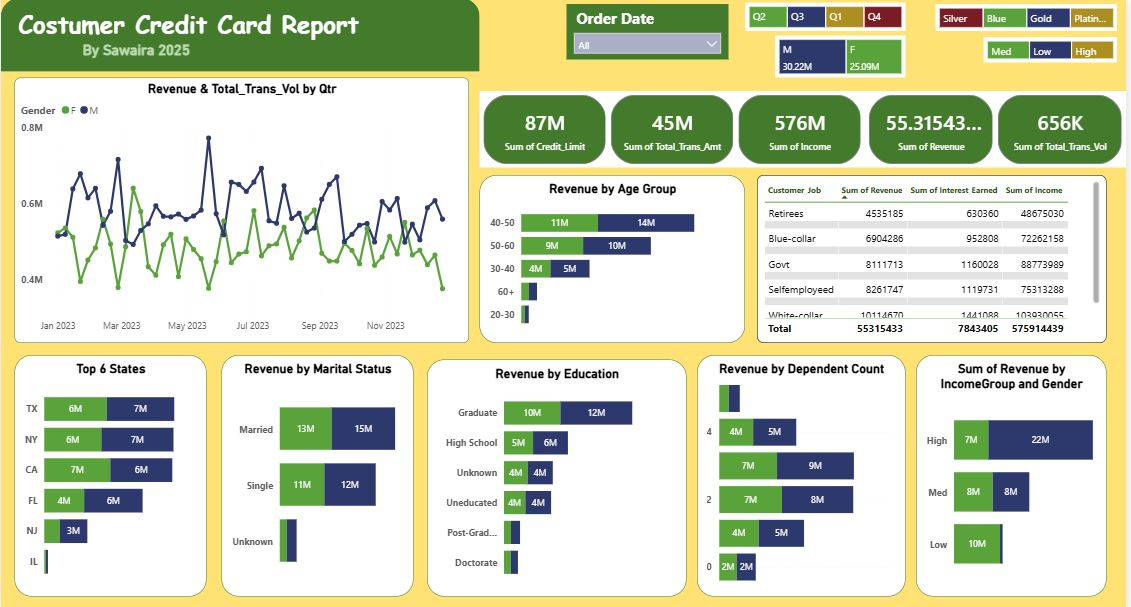

This screenshot's page, from the dashboard's own definition file:
{"tool":"powerbi","page":{"name":"CC Costumer","canvas":[1500,820],"ordinal":1},"visuals":[{"type":"cardVisual","fields":{"Data":["Sum(credit_card.Revenue)","Sum(credit_card.Total_Trans_Vol)"]},"box":[1152,124,348,102],"z":0},{"type":"cardVisual","fields":{"Data":["Sum(credit_card.Credit_Limit)","Sum(credit_card.Total_Trans_Amt)","Sum(customer.Income)"]},"box":[638,124,514,102],"z":1000},{"type":"tableEx","fields":{"Values":["customer.Customer_Job","Sum(credit_card.Revenue)","Sum(credit_card.Interest_Earned)","Sum(customer.Income)"]},"box":[1008,236,466,224],"z":2000},{"type":"barChart","fields":{"Category":["customer.IncomeGroup"],"Y":["Sum(credit_card.Revenue)"],"Series":["customer.Gender"]},"box":[1220,476,254,322],"z":3000},{"type":"lineChart","title":"Revenue & Total_Trans_Vol by Qtr","fields":{"Y":["Sum(credit_card.Revenue)"],"Category":["credit_card.Week_Start_Date.Variation.Date Hierarchy.Year","credit_card.Week_Start_Date.Variation.Date Hierarchy.Month","credit_card.Week_Start_Date.Variation.Date Hierarchy.Day"],"Series":["customer.Gender"]},"box":[18,106,606,354],"z":4000},{"type":"shape","box":[0,0,638,98],"z":6000},{"type":"slicer","fields":{"Values":["credit_card.Week_Start_Date"]},"box":[754,8,216,74],"z":8000},{"type":"barChart","title":"Revenue by Age Group","fields":{"Y":["Sum(credit_card.Revenue)"],"Category":["customer.AgeGroup"],"Series":["customer.Gender"]},"box":[638,236,354,224],"z":9000},{"type":"barChart","title":"Revenue by Dependent Count","fields":{"Y":["Sum(credit_card.Revenue)"],"Category":["customer.Dependent_Count"],"Series":["customer.Gender"]},"box":[928,476,278,322],"z":10000},{"type":"treemap","fields":{"Group":["credit_card.Qtr"],"Values":["CountNonNull(credit_card.Client_Num)"]},"box":[992,6,214,38],"z":12000},{"type":"treemap","fields":{"Group":["customer.Gender"],"Values":["Sum(credit_card.Revenue)"]},"box":[1032,50,174,56],"z":13000},{"type":"treemap","fields":{"Group":["customer.IncomeGroup"],"Values":["Avg(credit_card.Client_Num)"]},"box":[1310,52,178,34],"z":14000},{"type":"textbox","box":[18,6,488,76],"z":15000},{"type":"textbox","box":[104,52,190,46],"z":16000},{"type":"treemap","fields":{"Values":["Avg(credit_card.Client_Num)"],"Details":["credit_card.Card_Category"]},"box":[1246,8,242,36],"z":17000},{"type":"barChart","title":"Revenue by Education","fields":{"Y":["Sum(credit_card.Revenue)"],"Category":["customer.Education_Level"],"Series":["customer.Gender"]},"box":[568,482,346,316],"z":17001},{"type":"barChart","title":"Top 6 States","fields":{"Y":["Sum(credit_card.Revenue)"],"Category":["customer.state_cd"],"Series":["customer.Gender"]},"box":[18,476,256,322],"z":17002},{"type":"barChart","title":"Revenue by Marital Status","fields":{"Y":["Sum(credit_card.Revenue)"],"Category":["customer.Marital_Status"],"Series":["customer.Gender"]},"box":[294,476,256,322],"z":17003}]}

Visuals, with their boxes in screenshot pixels (x1, y1, x2, y2), scaled from the page's 1500x820 canvas onto the 1131x607 screenshot:
cardVisual - Sum(credit_card.Revenue) x Sum(credit_card.Total_Trans_Vol): 869, 92, 1130, 167
cardVisual - Sum(credit_card.Credit_Limit) x Sum(credit_card.Total_Trans_Amt): 481, 92, 869, 167
tableEx - customer.Customer_Job x Sum(credit_card.Revenue): 760, 175, 1111, 341
barChart - customer.IncomeGroup x Sum(credit_card.Revenue): 920, 352, 1111, 591
"Revenue & Total_Trans_Vol by Qtr" lineChart: 14, 78, 470, 341
shape: 0, 0, 481, 73
slicer - credit_card.Week_Start_Date: 569, 6, 731, 61
"Revenue by Age Group" barChart: 481, 175, 748, 341
"Revenue by Dependent Count" barChart: 700, 352, 909, 591
treemap - credit_card.Qtr x CountNonNull(credit_card.Client_Num): 748, 4, 909, 33
treemap - customer.Gender x Sum(credit_card.Revenue): 778, 37, 909, 78
treemap - customer.IncomeGroup x Avg(credit_card.Client_Num): 988, 38, 1122, 64
textbox: 14, 4, 382, 61
textbox: 78, 38, 222, 73
treemap - Avg(credit_card.Client_Num) x credit_card.Card_Category: 939, 6, 1122, 33
"Revenue by Education" barChart: 428, 357, 689, 591
"Top 6 States" barChart: 14, 352, 207, 591
"Revenue by Marital Status" barChart: 222, 352, 415, 591
